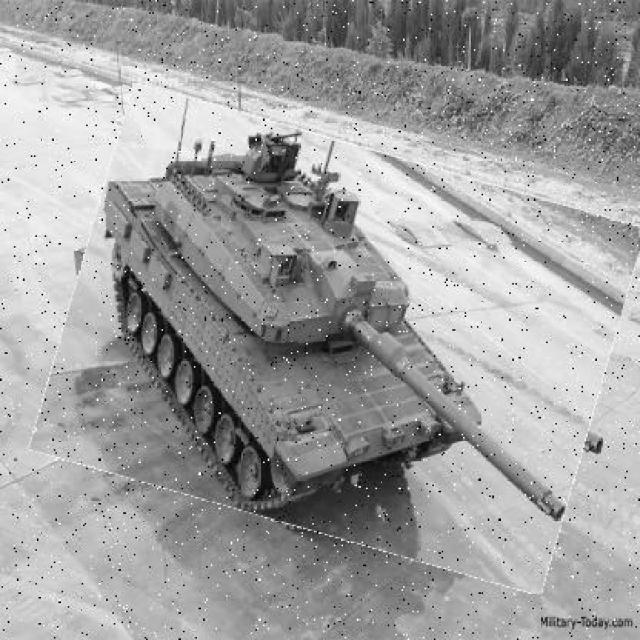Tank: (52, 118, 626, 564)
